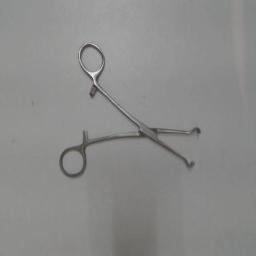Babcock Tissue Forceps: (56, 38, 204, 182)
